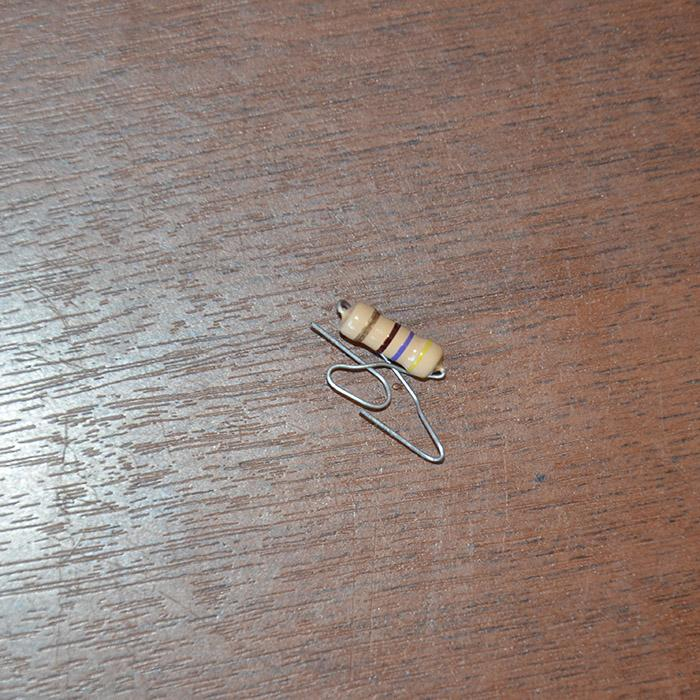resistor: (336, 299, 446, 379)
